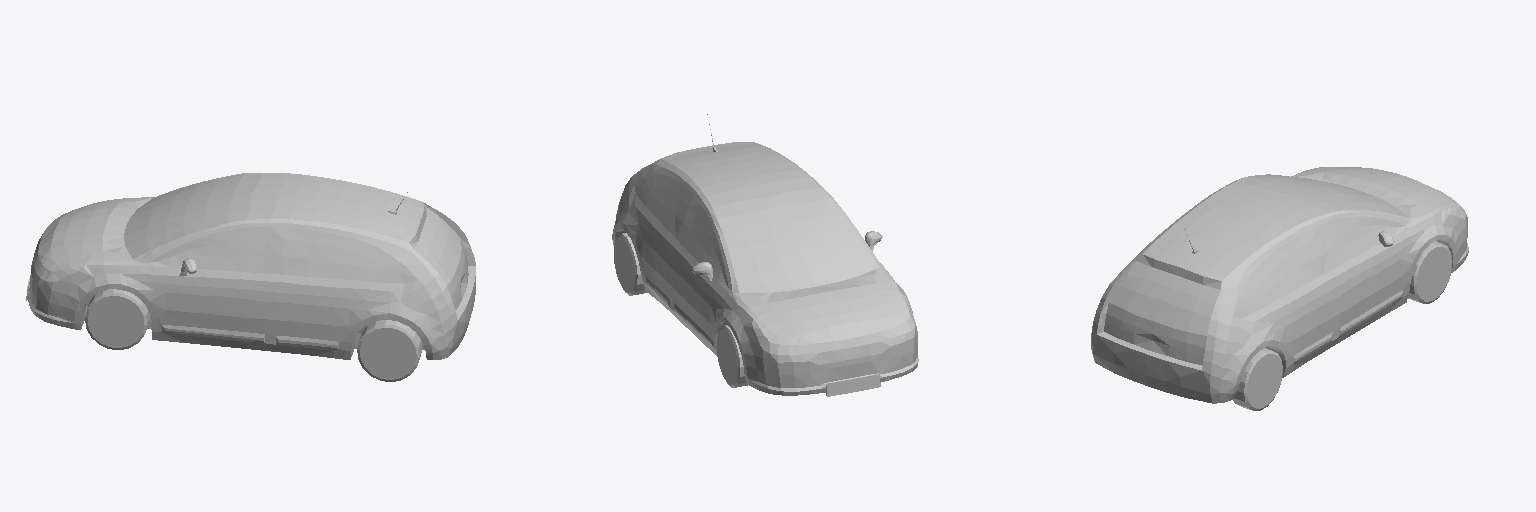
File: carsAI_000183.obj
3 renders of one model, left to right at view 1: azimuth 30°, elevation 25°; view 2: azimuth 150°, elevation 25°; view 3: azimuth 270°, elevation 25°, orthographic.
Visible parts, largest first — view 1: car_5, tire_6, tire_9; view 2: car_5, tire_8, tire_7; view 3: car_5, tire_8, tire_7.
Part boxes in pixels (x1,y1,x2,y2): car_5: (26, 173, 475, 359); tire_6: (357, 320, 421, 381); tire_9: (85, 289, 149, 349); car_5: (612, 114, 918, 396); tire_8: (614, 233, 646, 295); tire_7: (716, 325, 747, 387); car_5: (1091, 167, 1468, 403); tire_8: (1232, 348, 1282, 410); tire_7: (1408, 241, 1452, 303).
Size of the model in its own units: 101 by 42.28 by 90.34.